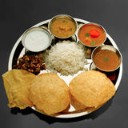poori: (32, 72, 69, 115), (71, 73, 115, 106), (2, 69, 32, 109)
